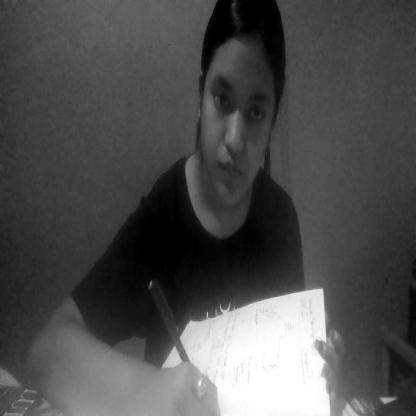Normal: (196, 0, 287, 206)
